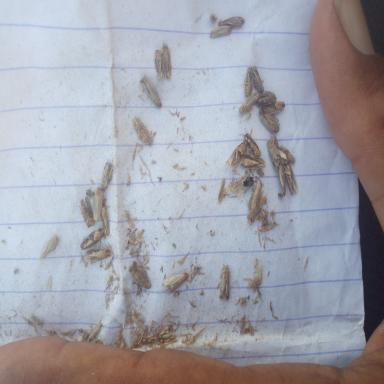pbw: (140, 75, 162, 109), (128, 261, 151, 291), (161, 272, 189, 294), (132, 117, 153, 146), (226, 142, 246, 170), (80, 228, 105, 250), (260, 106, 280, 133), (78, 195, 94, 228), (239, 133, 261, 157), (237, 92, 259, 115), (39, 235, 59, 260), (284, 161, 298, 196), (250, 181, 262, 217), (240, 66, 253, 97), (219, 264, 230, 300), (267, 140, 280, 170), (101, 162, 114, 191), (83, 249, 111, 262), (252, 64, 264, 94), (162, 44, 172, 80), (93, 188, 103, 222), (254, 91, 276, 106), (278, 145, 295, 164), (277, 162, 286, 197), (218, 16, 244, 28), (100, 206, 110, 237), (262, 101, 285, 114), (241, 156, 265, 168), (209, 26, 232, 38), (155, 49, 162, 81)
